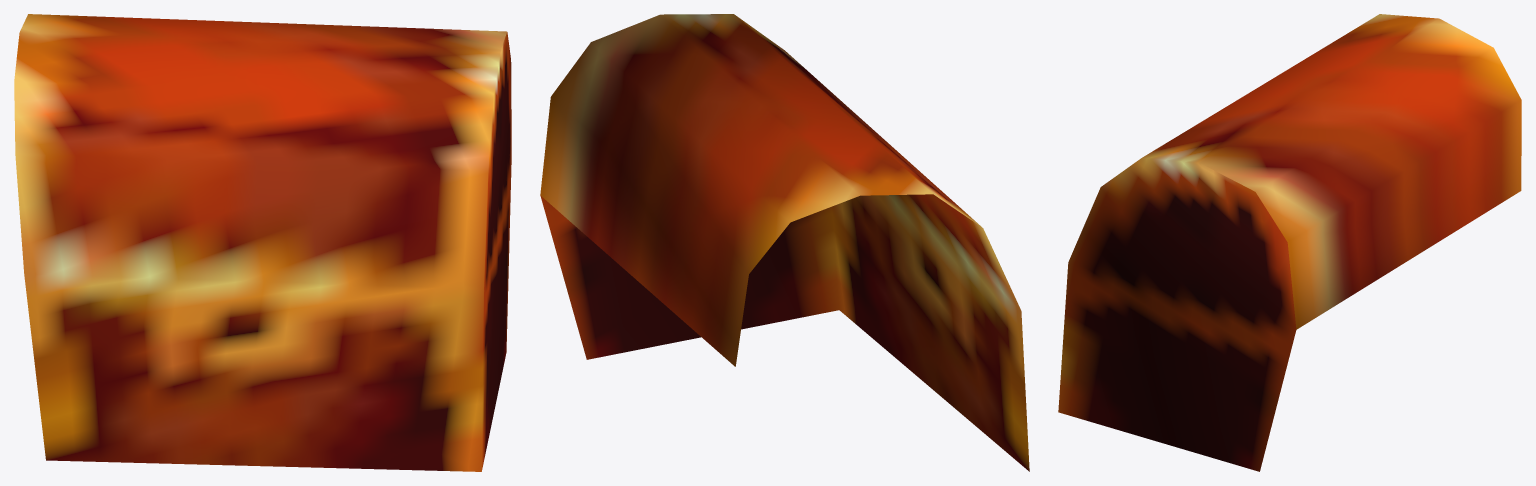
The picture shows the model from 3 angles, left to right: view 1: azimuth 30°, elevation 25°; view 2: azimuth 150°, elevation 25°; view 3: azimuth 270°, elevation 25°; orthographic projection. The views are drawn at different scales.
Parts seen in each view (by area): view 1: fg_box_out; view 2: fg_box_out; view 3: fg_box_out.
Part boxes in pixels (left/top/right/bottom): fg_box_out: left=14, top=14, right=511, bottom=471; fg_box_out: left=540, top=14, right=1029, bottom=471; fg_box_out: left=1058, top=14, right=1521, bottom=471.
Bounding box in the file's own units: 17.55 × 11.56 × 16.64.
1 material, 1 textured.
